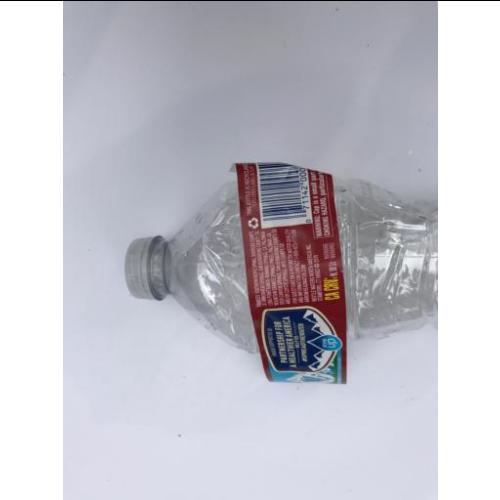plastic: (125, 162, 438, 386)
